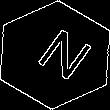N_SW: (21, 23, 89, 87)
